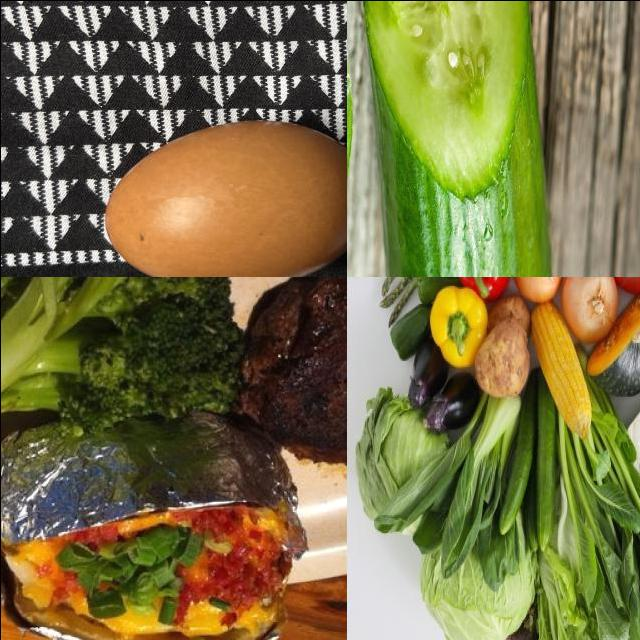cabbage: (416, 527, 538, 640)
cucumber: (361, 1, 556, 277)
egg: (102, 120, 347, 277)
eggplant: (424, 367, 480, 437), (409, 332, 447, 412)
onion: (562, 277, 617, 342), (515, 277, 564, 303)
